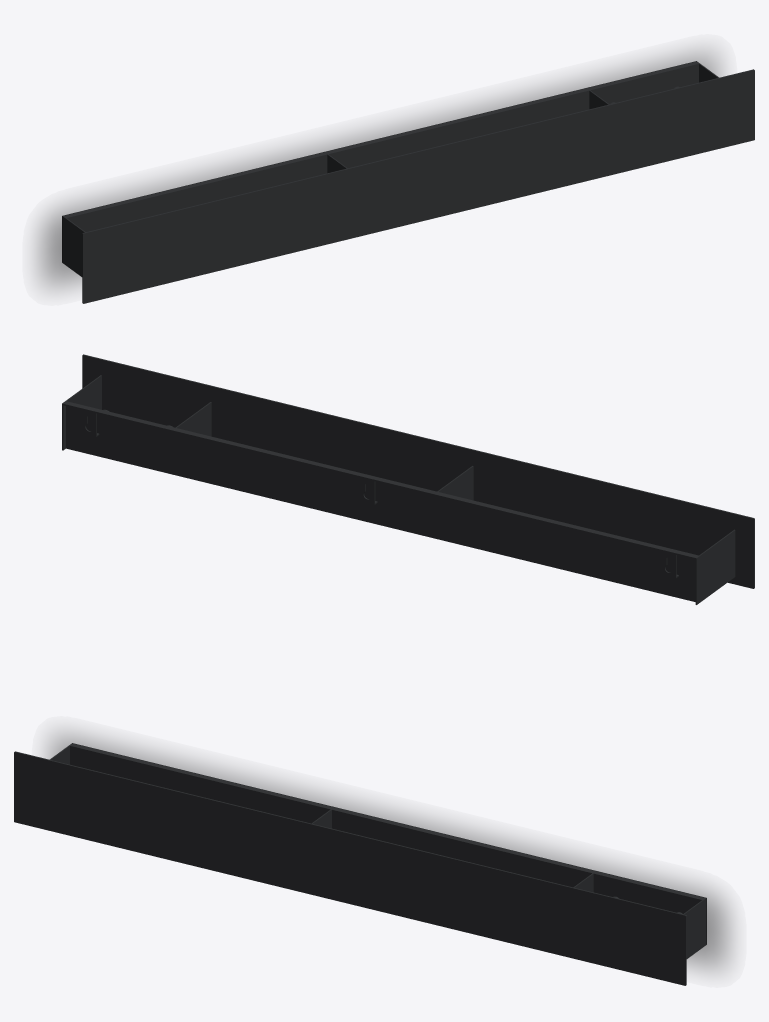
File: skyline-patron.eed4969630.ar.glb
The picture shows the model from 3 angles, top to bottom: view 1: azimuth 30°, elevation 25°; view 2: azimuth 150°, elevation 25°; view 3: azimuth 330°, elevation 25°; orthographic projection.
Parts seen in each view (by area): view 1: NAUO1, object 2; view 2: NAUO1; view 3: NAUO1, object 2.
Part boxes in pixels (x1,y1,x2,y2): NAUO1: [62, 61, 754, 303]; object 2: [36, 51, 722, 288]; NAUO1: [62, 354, 754, 604]; NAUO1: [14, 743, 706, 985]; object 2: [46, 733, 732, 970].
Bounding box in the file's own units: 0.98 × 0.17 × 0.092.
Materials: 2 (1 with a texture image).
